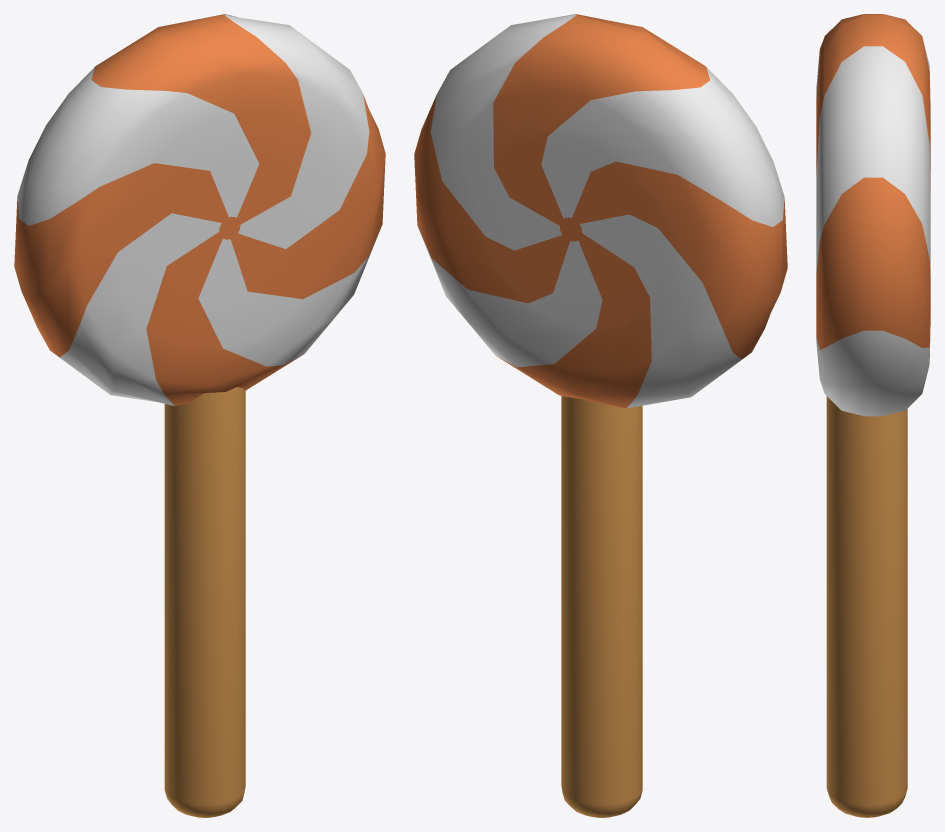
File: sugar_4.fbx
3 renders of one model, left to right at view 1: azimuth 30°, elevation 25°; view 2: azimuth 150°, elevation 25°; view 3: azimuth 270°, elevation 25°, orthographic.
Visible parts, largest first — view 1: sugar_5; view 2: sugar_5; view 3: sugar_5.
Part boxes in pixels (left/top/right/bottom): sugar_5: left=14, top=14, right=385, bottom=817; sugar_5: left=414, top=14, right=787, bottom=817; sugar_5: left=816, top=14, right=930, bottom=817.
Size of the model in its own units: 25.46 by 54.12 by 7.23.
